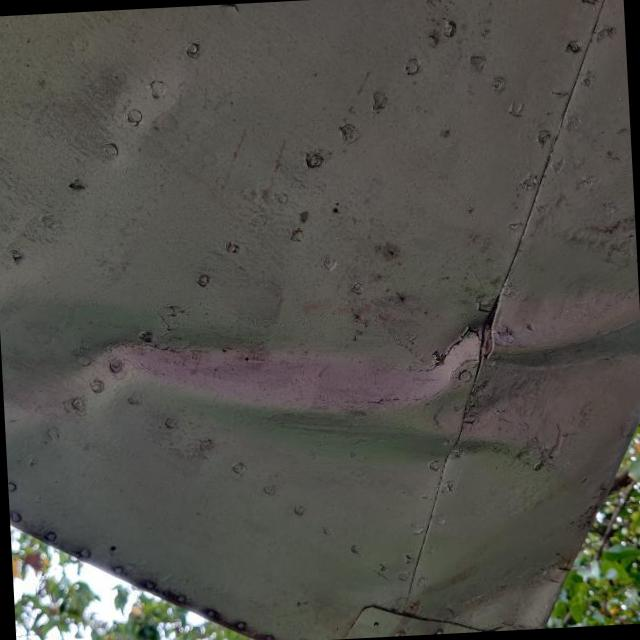Crack: (423, 325, 479, 369)
Dent: (3, 214, 640, 589)
